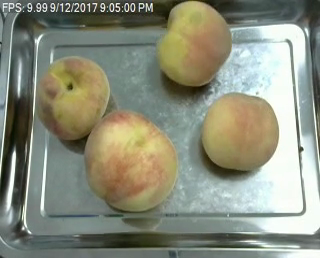Peach: (83, 110, 176, 213), (156, 1, 232, 86), (36, 54, 109, 141), (202, 91, 279, 170)
